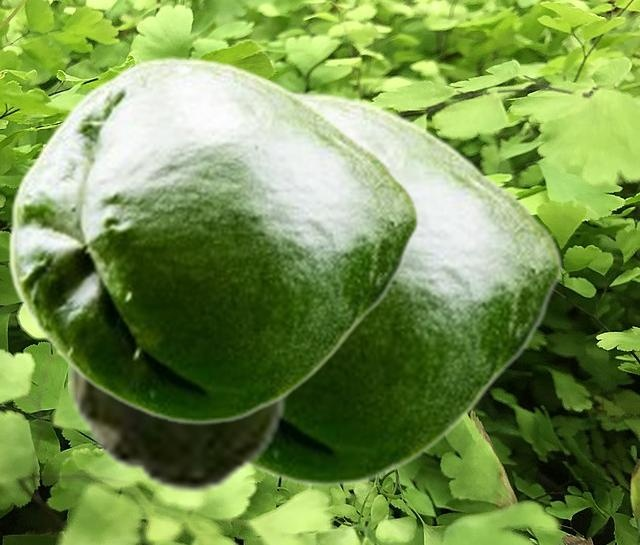sayote: (7, 56, 419, 424), (248, 91, 562, 486), (68, 367, 288, 494)
